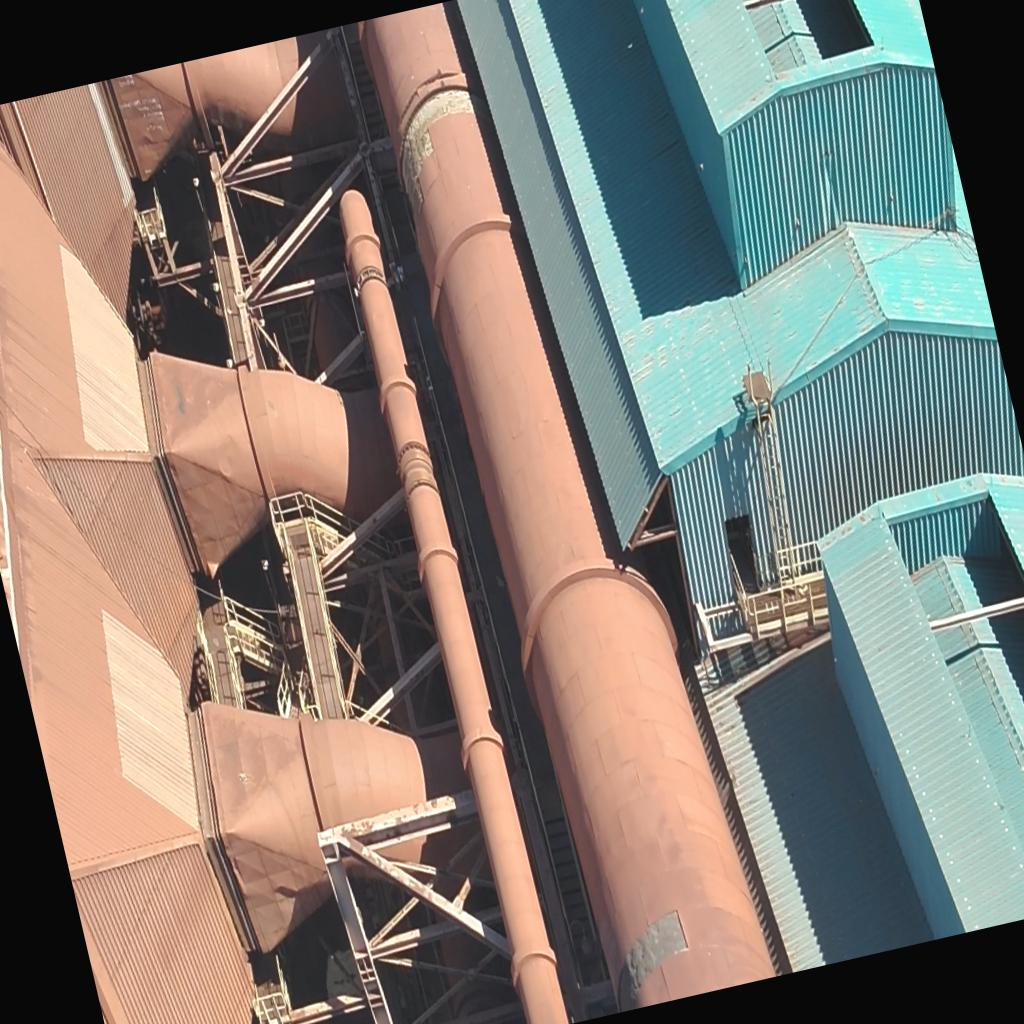Failures: (380, 70, 503, 215), (603, 898, 702, 1004)
